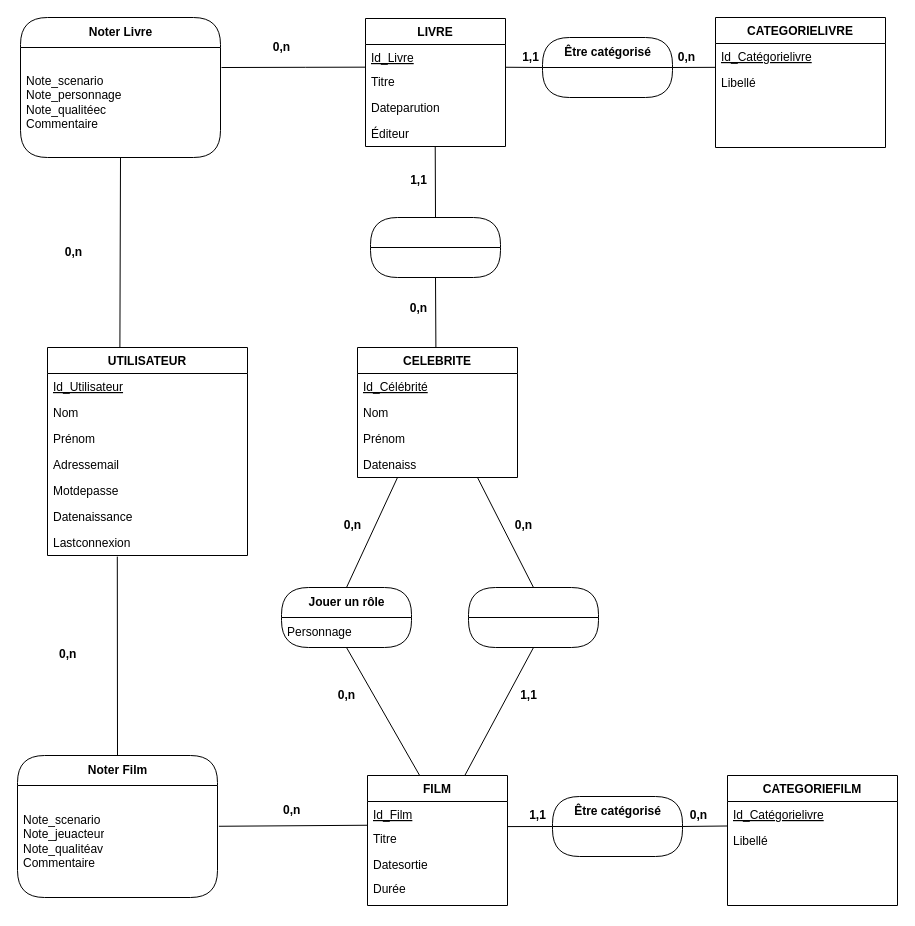
Image size: 915x926. Some labels were removed from this diagram. Here are the shapes that lost their labels. From the top down, the centre of each, then its label:
At [435,247]: "Écrire".
At [533,617]: "Réaliser".
